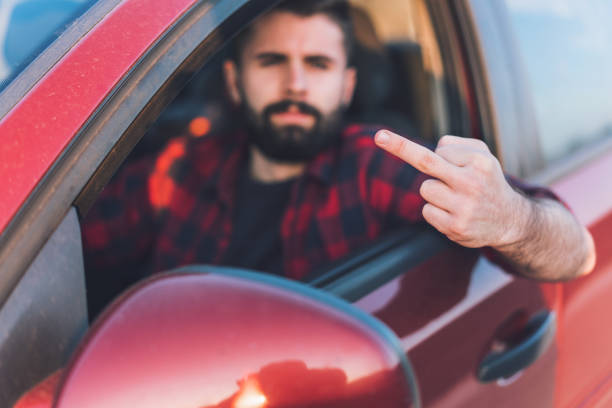insulting_gesture: (374, 121, 502, 256)
